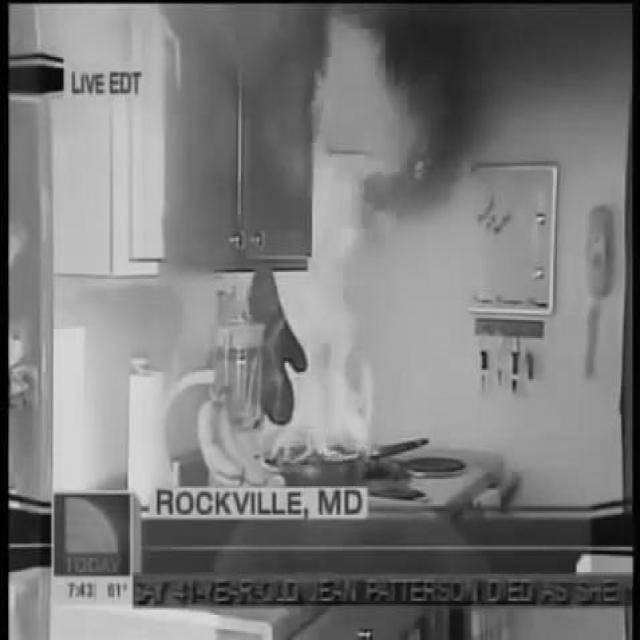smoke: (272, 162, 373, 462)
